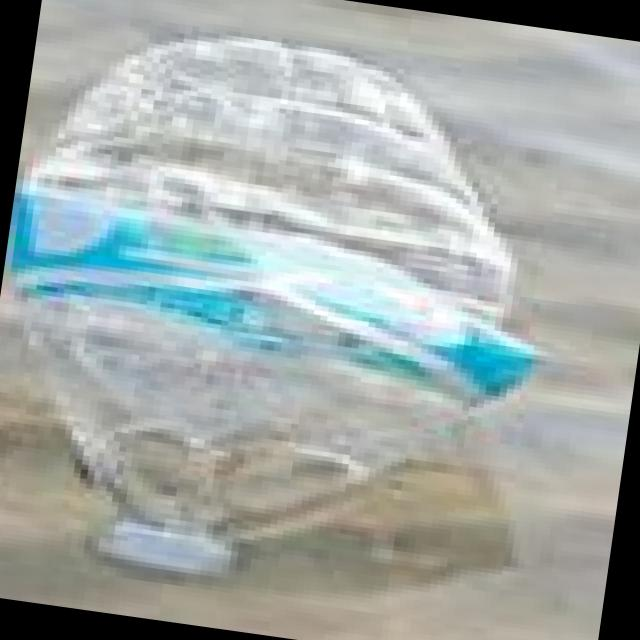general: (0, 4, 579, 617)
